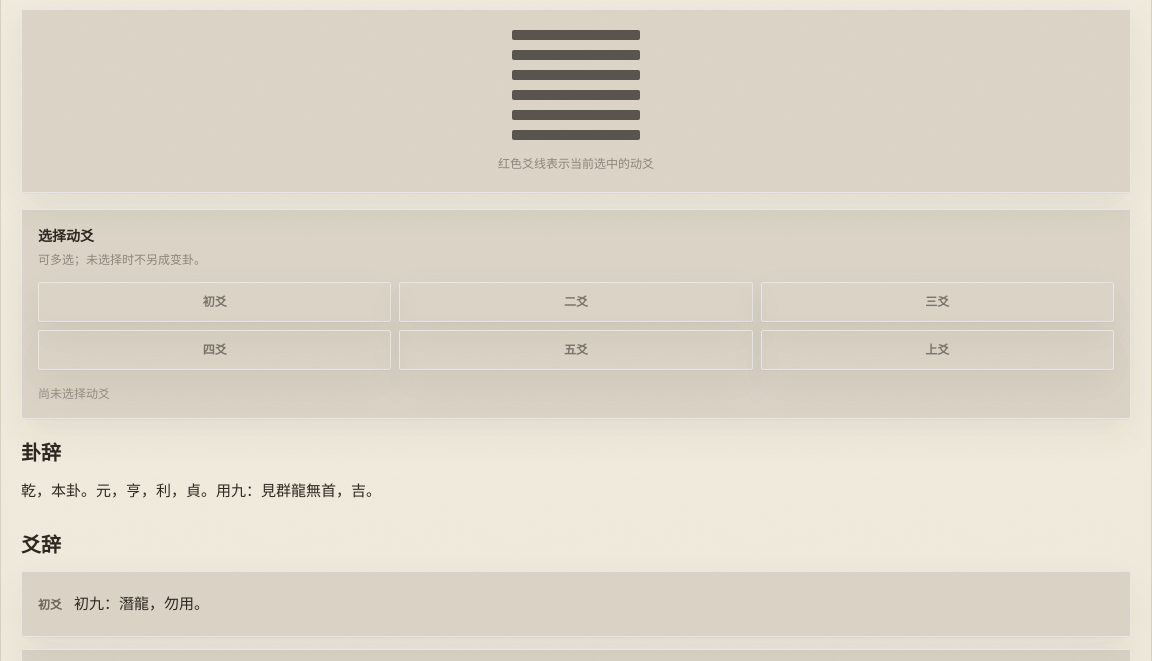
it: IchingLibrary › 选择动爻后本地生成变卦并高亮对应爻辞
The width and height of the screenshot is (1152, 661).
(page scrolled)
Click the button "初爻" at (215, 302), box [38, 282, 391, 322]
(page scrolled)
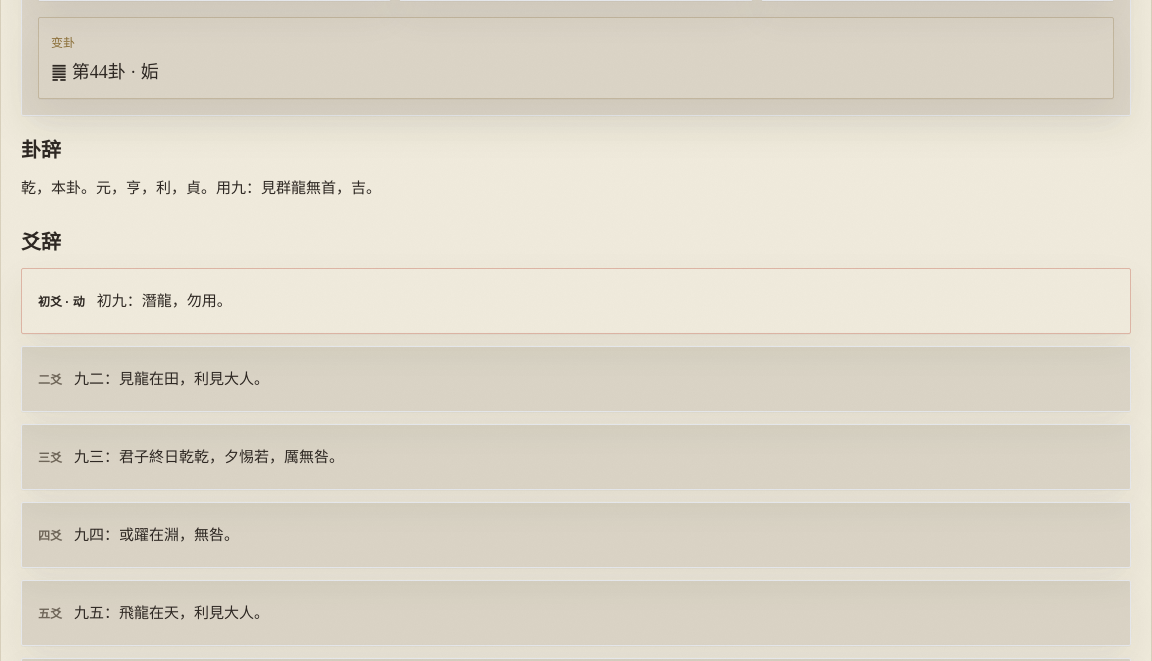
Now the button "变卦 ䷫ 第44卦 · 姤" is shown, box [38, 17, 1114, 99]
Now the text "初爻 · 动" is shown, box [38, 295, 85, 309]
